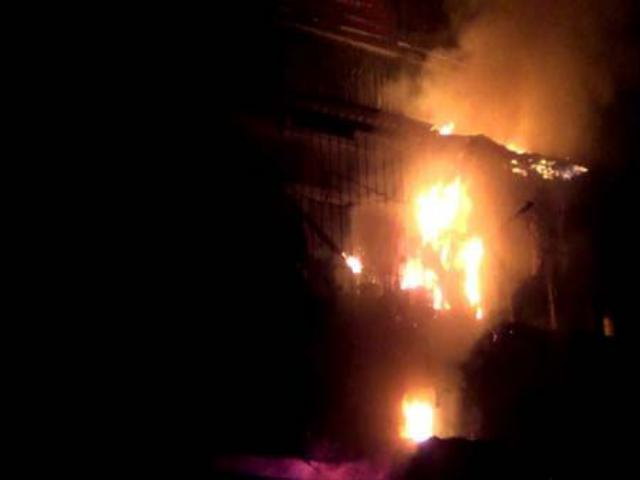fire: (410, 171, 466, 241), (449, 237, 487, 307), (395, 391, 439, 446), (399, 251, 437, 292), (342, 251, 366, 273), (430, 119, 460, 136)
